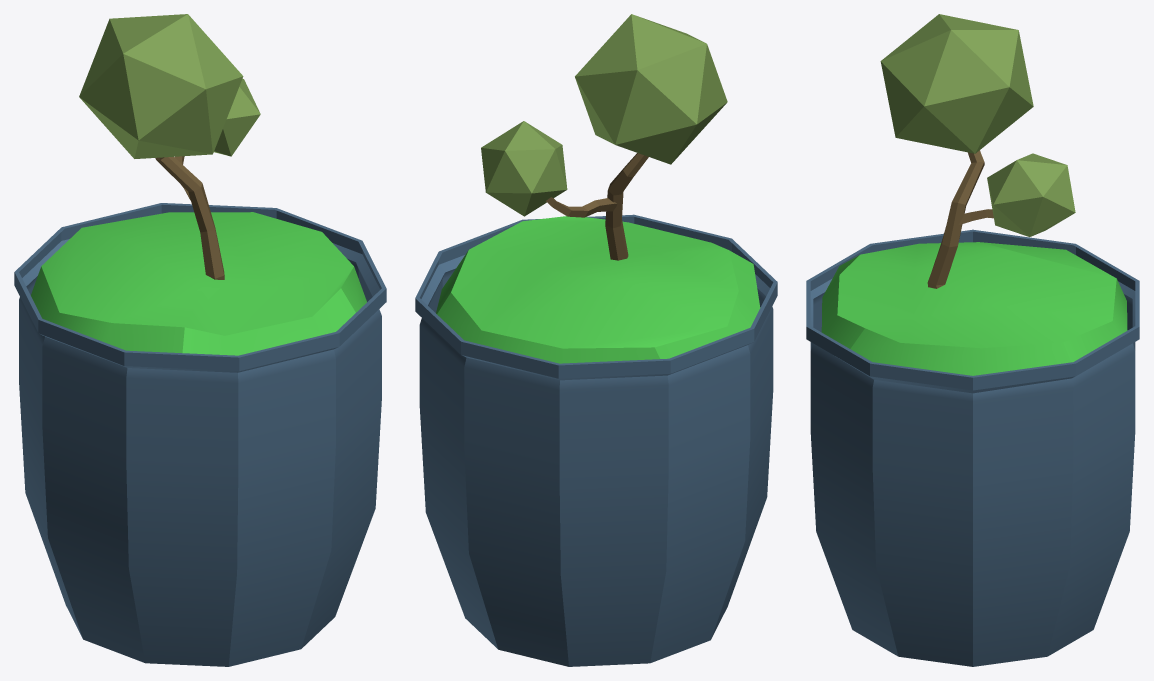
File: Plant_HowPant_Info.fbx
3 views of the same model, side by side, from view 1: azimuth 30°, elevation 25°; view 2: azimuth 150°, elevation 25°; view 3: azimuth 270°, elevation 25° (orthographic). The views are drawn at different scales.
Parts seen in each view (by area): view 1: Bow, Ground1, plant; view 2: Bow, Ground1, plant; view 3: Bow, Ground1, plant.
Part boxes in pixels (x1,y1,x2,y2): Bow: (14, 203, 386, 666); Ground1: (31, 212, 366, 355); plant: (79, 14, 260, 279); Bow: (415, 214, 777, 666); Ground1: (436, 216, 760, 363); plant: (481, 14, 727, 260); Bow: (806, 229, 1139, 666); Ground1: (821, 242, 1127, 375); plant: (880, 14, 1075, 288).
Bounding box in the file's own units: 3.46 × 6.23 × 3.29.
